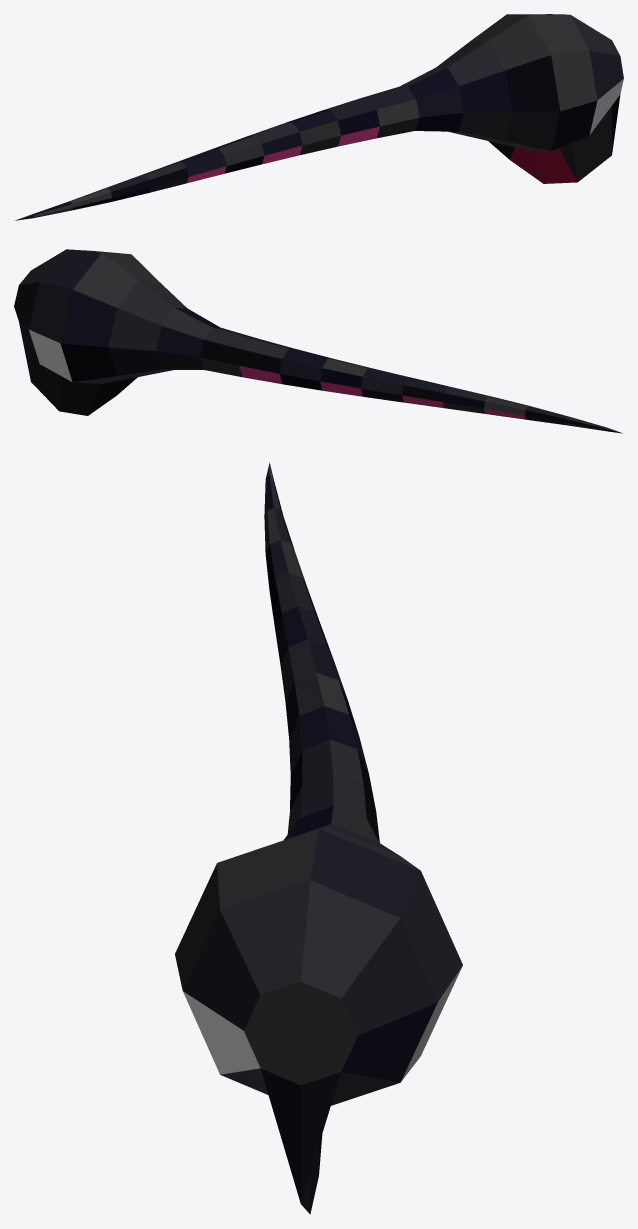
File: Gulper_Eel.glb
3 renders of one model, top to bottom at view 1: azimuth 30°, elevation 25°; view 2: azimuth 150°, elevation 25°; view 3: azimuth 270°, elevation 25°, orthographic. The views are drawn at different scales.
Visible parts, largest first — view 1: Gulper_Eel; view 2: Gulper_Eel; view 3: Gulper_Eel.
Boxes of the visible parts, x1,y1,x2,y2 form: Gulper_Eel: (15, 14, 623, 220); Gulper_Eel: (14, 249, 623, 433); Gulper_Eel: (175, 463, 462, 1214).
Bounding box in the file's own units: 1.66 × 0.4613 × 0.3519.
